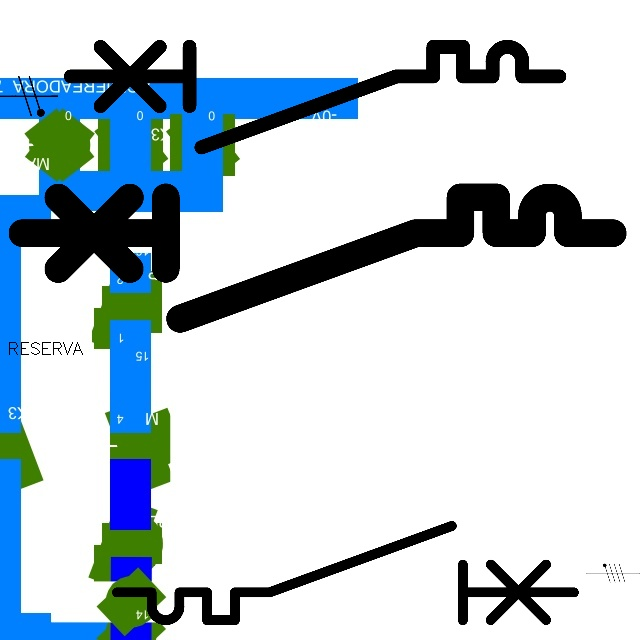interruptor_termomagnetico: (7, 182, 628, 334), (58, 34, 572, 160), (105, 514, 586, 632)
